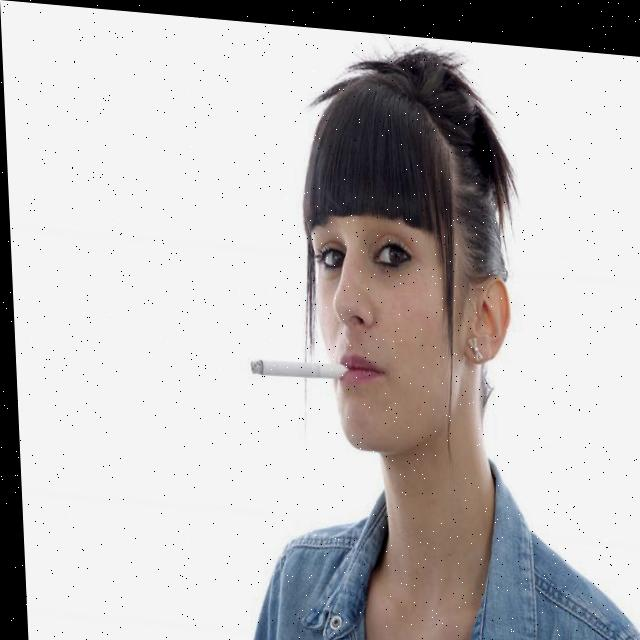cigarette: (247, 349, 341, 376)
